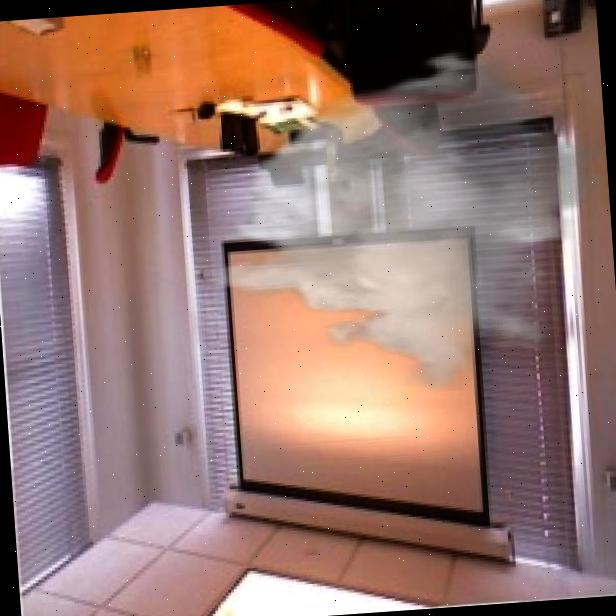smoke: (194, 36, 616, 407)
